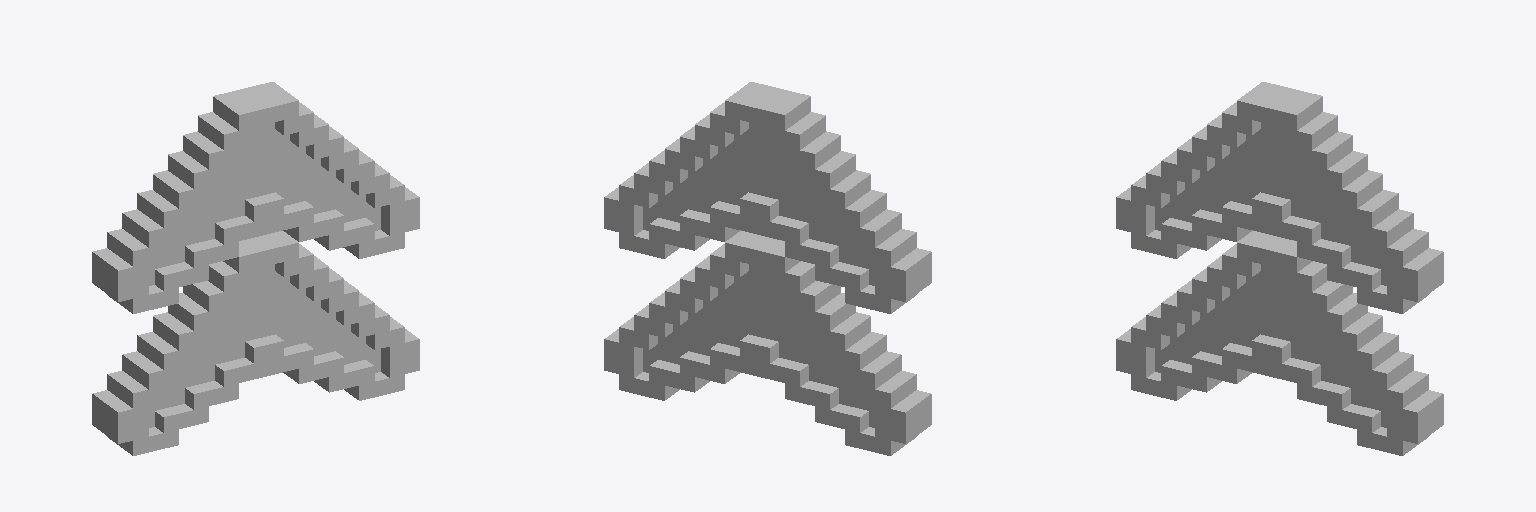
The model's file is pickup.obj.
The picture shows the model from 3 angles: view 1: azimuth 30°, elevation 25°; view 2: azimuth 150°, elevation 25°; view 3: azimuth 330°, elevation 25°; orthographic projection.
Visible parts, largest first — view 1: object 1; view 2: object 1; view 3: object 1.
Boxes of the visible parts, <box> form: object 1: <box>92,82,419,455</box>; object 1: <box>604,82,931,455</box>; object 1: <box>1116,82,1443,455</box>.
Bounding box in the file's own units: 2 × 2 × 0.3.